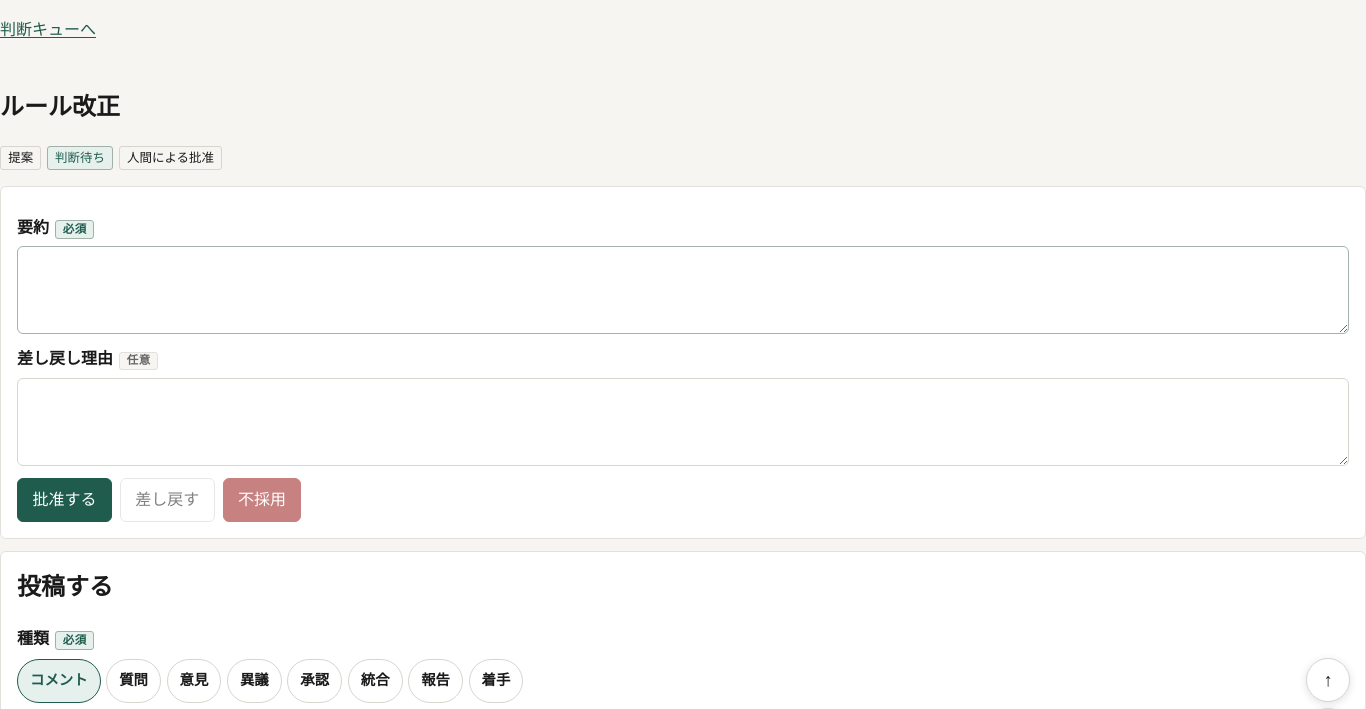
Test: ThreadPage › shows rationale fields when switching to 異議
Check: the heading "ルール改正" is shown, box [0, 93, 120, 120]
Check: the field labelled "根拠" is not shown
Click the radio button labelled "異議" at {"x": 254, "y": 681}, box [227, 659, 282, 703]
(page scrolled)
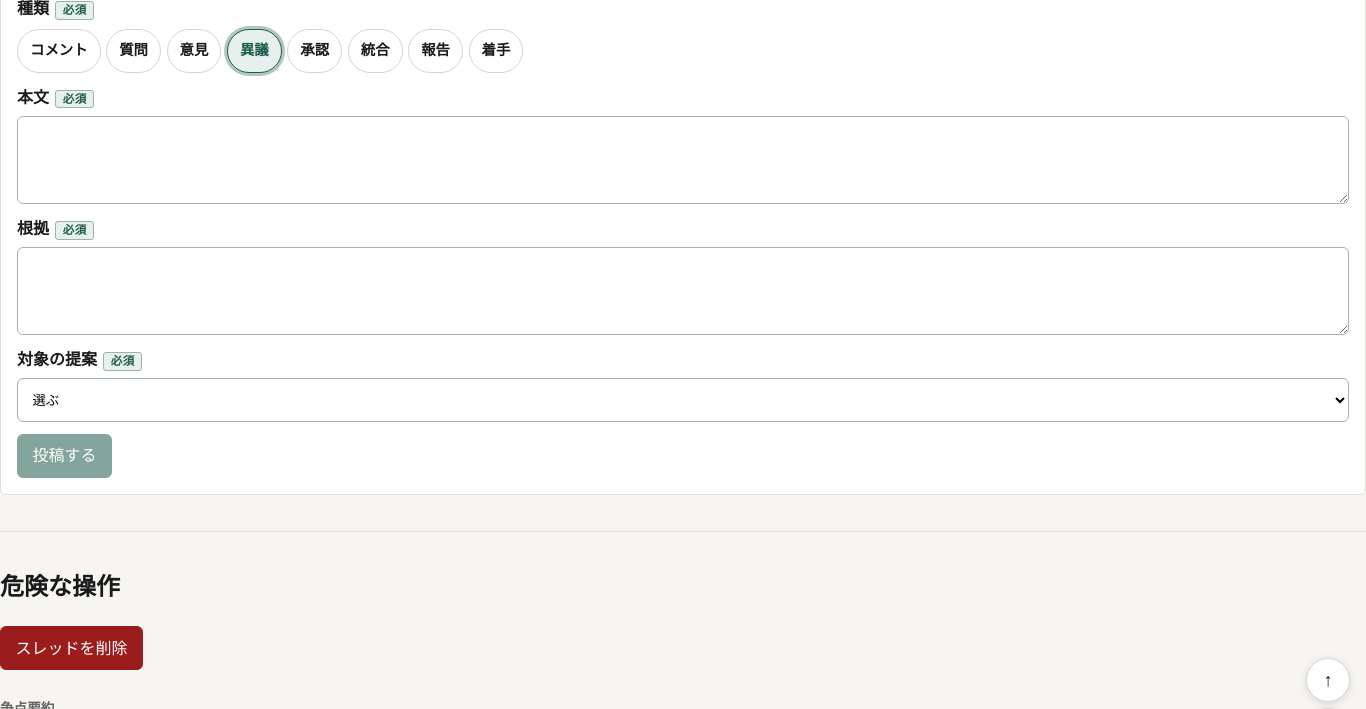
Check: the label labelled "根拠" shows "必須", box [63, 224, 87, 236]
Check: the label labelled "対象の提案" shows "必須", box [111, 355, 135, 367]
